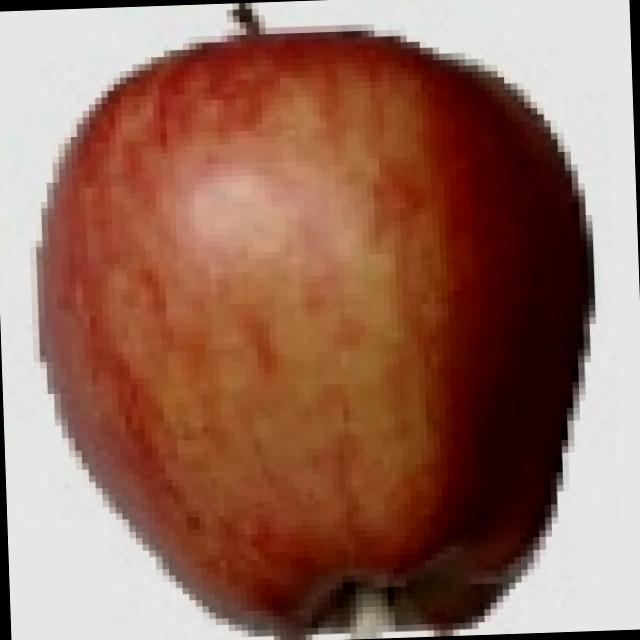apple: (8, 11, 608, 634)
